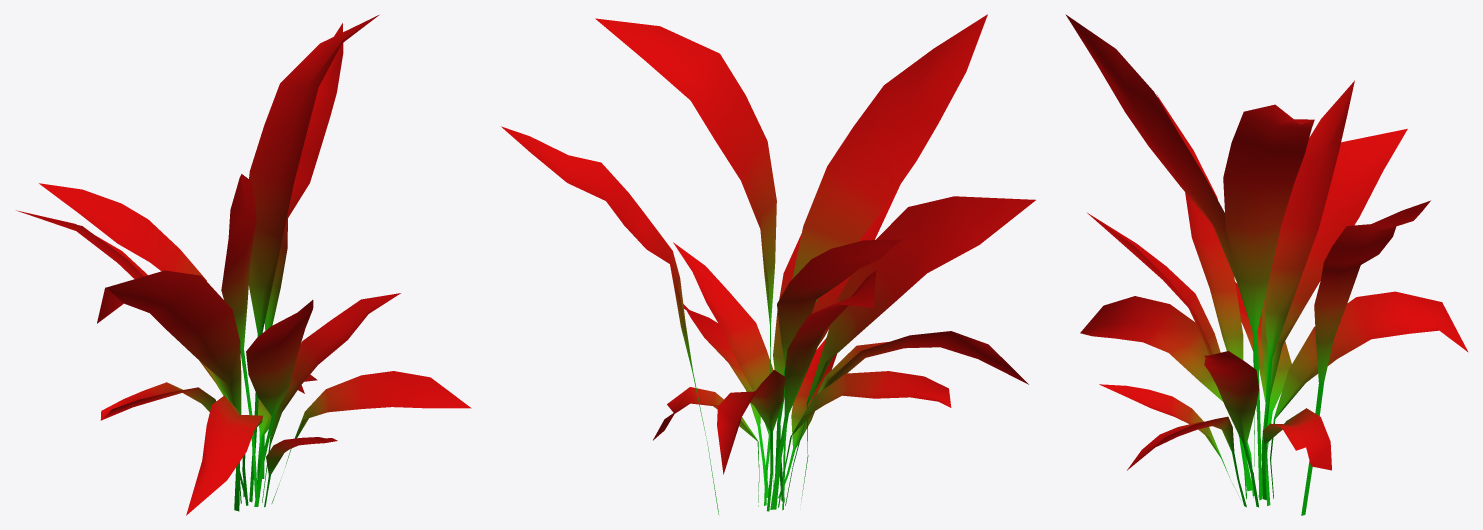
Rendered from Cast - Iron Plant_LOD1_Var1_shdmr.fbx.
3 renders of one model, left to right at view 1: azimuth 30°, elevation 25°; view 2: azimuth 150°, elevation 25°; view 3: azimuth 270°, elevation 25°, orthographic. The views are drawn at different scales.
Parts seen in each view (by area): view 1: _90ae_Var1_LOD1; view 2: _90ae_Var1_LOD1; view 3: _90ae_Var1_LOD1.
Part boxes in pixels (x1,y1,x2,y2): _90ae_Var1_LOD1: [16, 15, 471, 515]; _90ae_Var1_LOD1: [501, 14, 1035, 515]; _90ae_Var1_LOD1: [1065, 14, 1468, 515].
Bounding box in the file's own units: 68.16 × 77.28 × 62.44.
